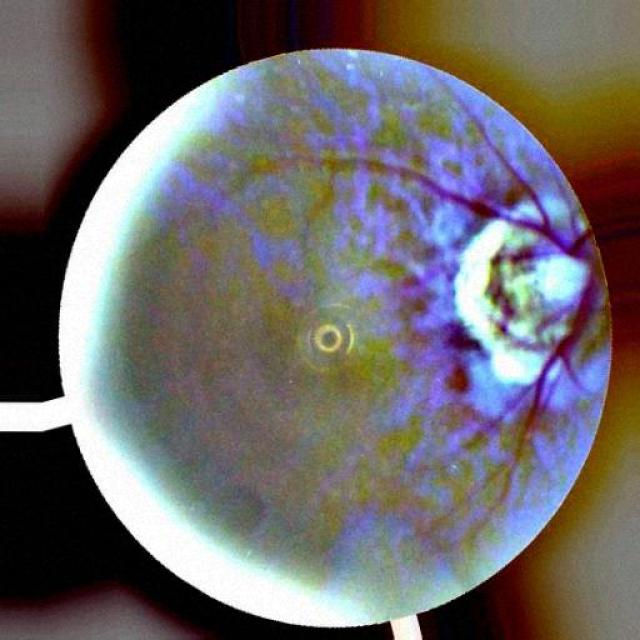Optic Disk: (454, 195, 590, 385)
